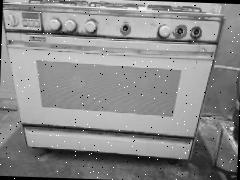electronic: (0, 0, 224, 162)
